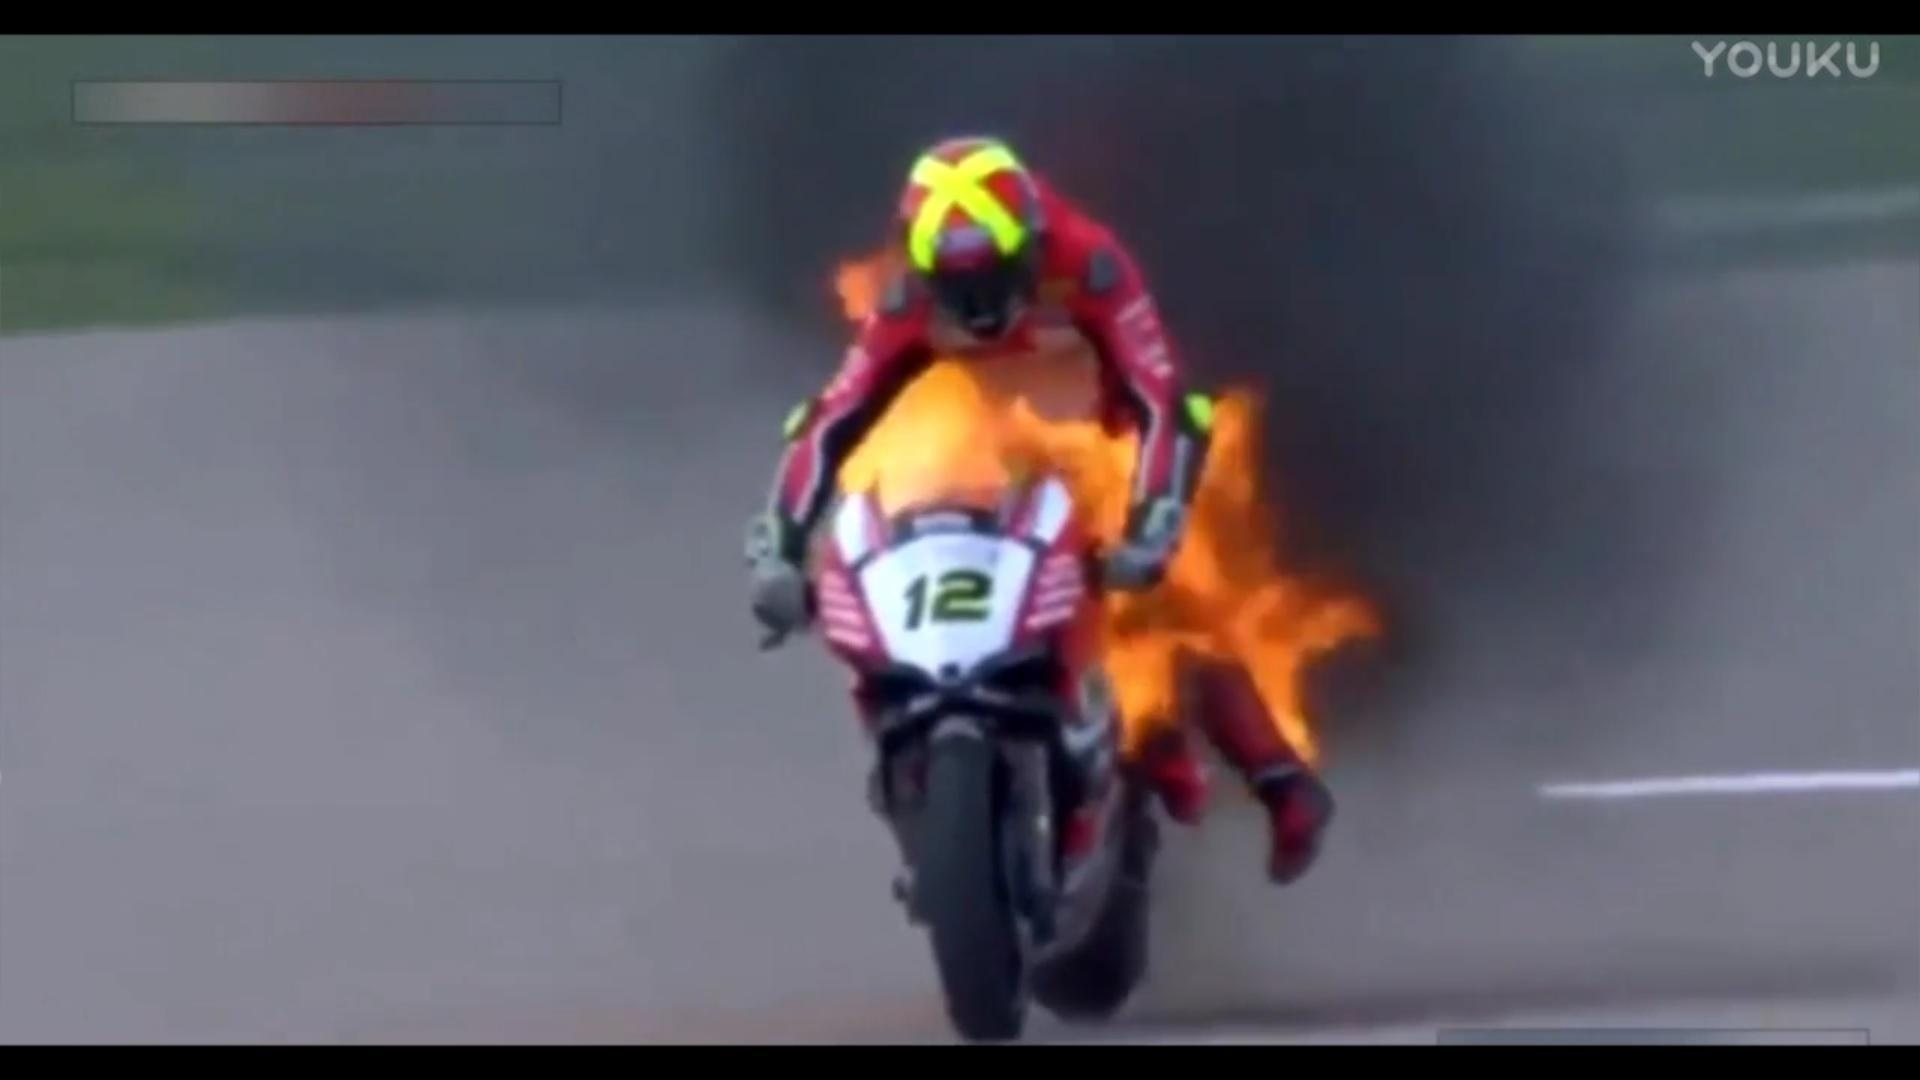fire: (810, 345, 1375, 774)
